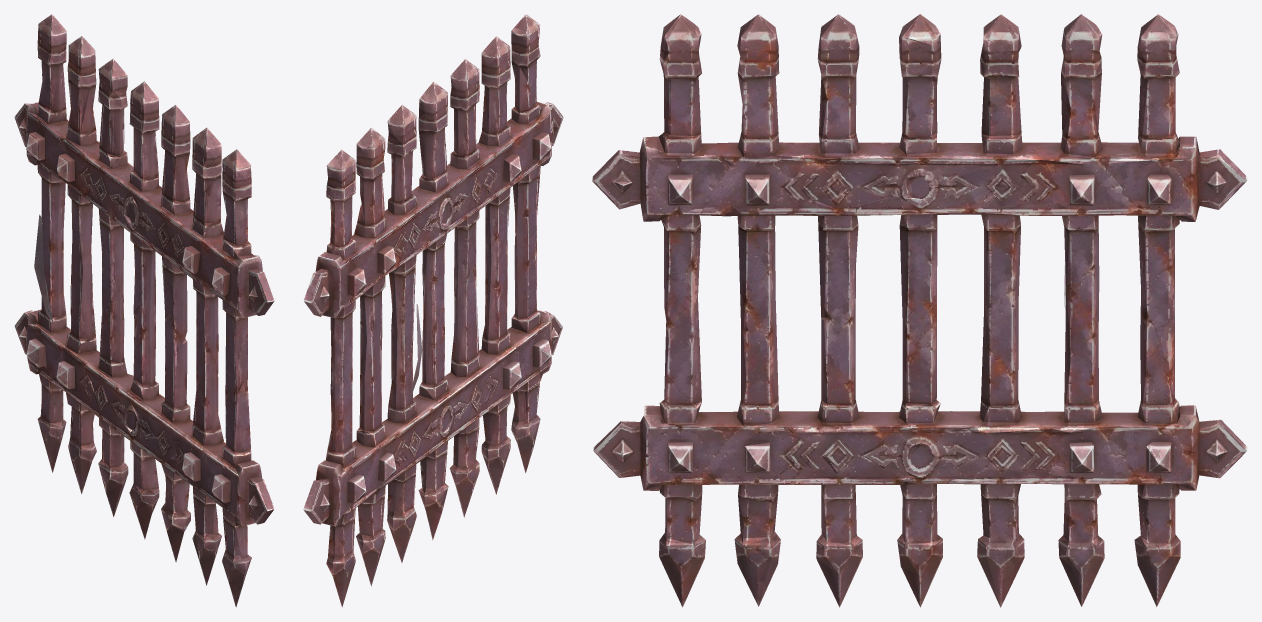
File: timed_door.glb
3 views of the same model, side by side, from view 1: azimuth 30°, elevation 25°; view 2: azimuth 150°, elevation 25°; view 3: azimuth 270°, elevation 25° (orthographic). The views are drawn at different scales.
Visible parts, largest first — view 1: body; view 2: body; view 3: body.
Part boxes in pixels (x1,y1,x2,y2): body: (14, 14, 274, 607); body: (303, 14, 563, 607); body: (592, 14, 1247, 607).
Bounding box in the file's own units: 0.4969 × 3 × 3.
1 material, 1 textured.
